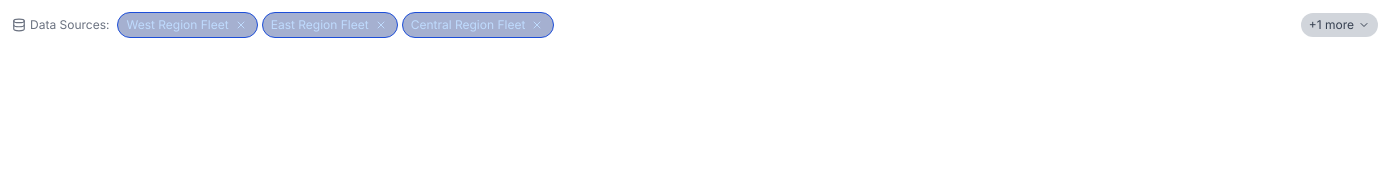
Test: EnabledDataSourcesIndicator › collapses a long list into an expandable summary
Check: the text "Executive Fleet" is not shown
Click the button "+1 more".
click(1339, 25)  # box top-left (1301, 13), bottom-right (1378, 37)
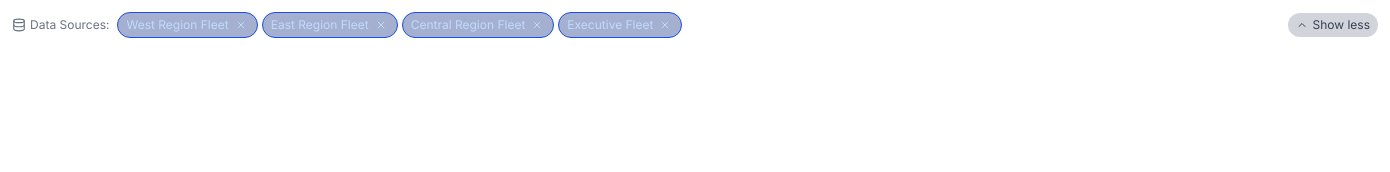
Check: the text "Executive Fleet" is shown, box top-left (567, 17), bottom-right (654, 33)
